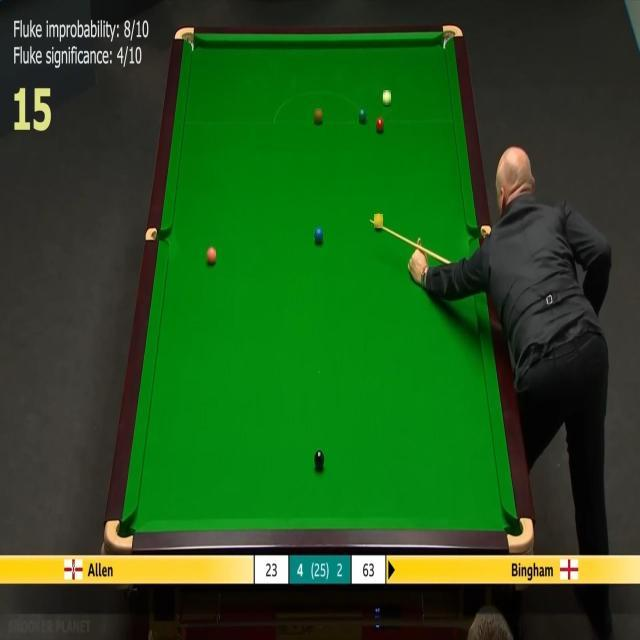Ball: (314, 450, 325, 468), (206, 246, 216, 264), (314, 108, 322, 124), (374, 214, 383, 228), (383, 90, 391, 105), (315, 227, 323, 242), (360, 109, 368, 123), (376, 118, 384, 132)
